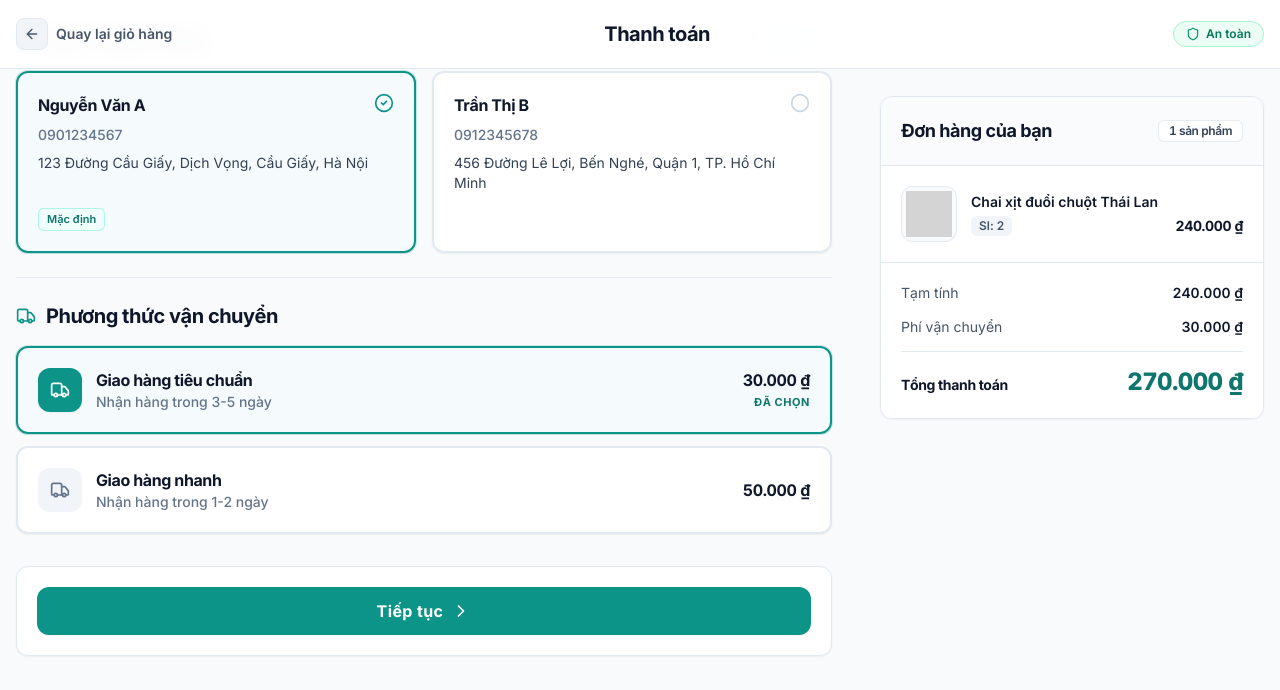
Test: CheckoutPage › Step Navigation & Validation › navigates from Step 1 to Step 2, allows payment method selection, and returns back to Step 1
(page scrolled)
# Proceed to Step 2
Click the button "Tiếp tục": click(424, 610) 37,586 -> 811,634
(page scrolled)
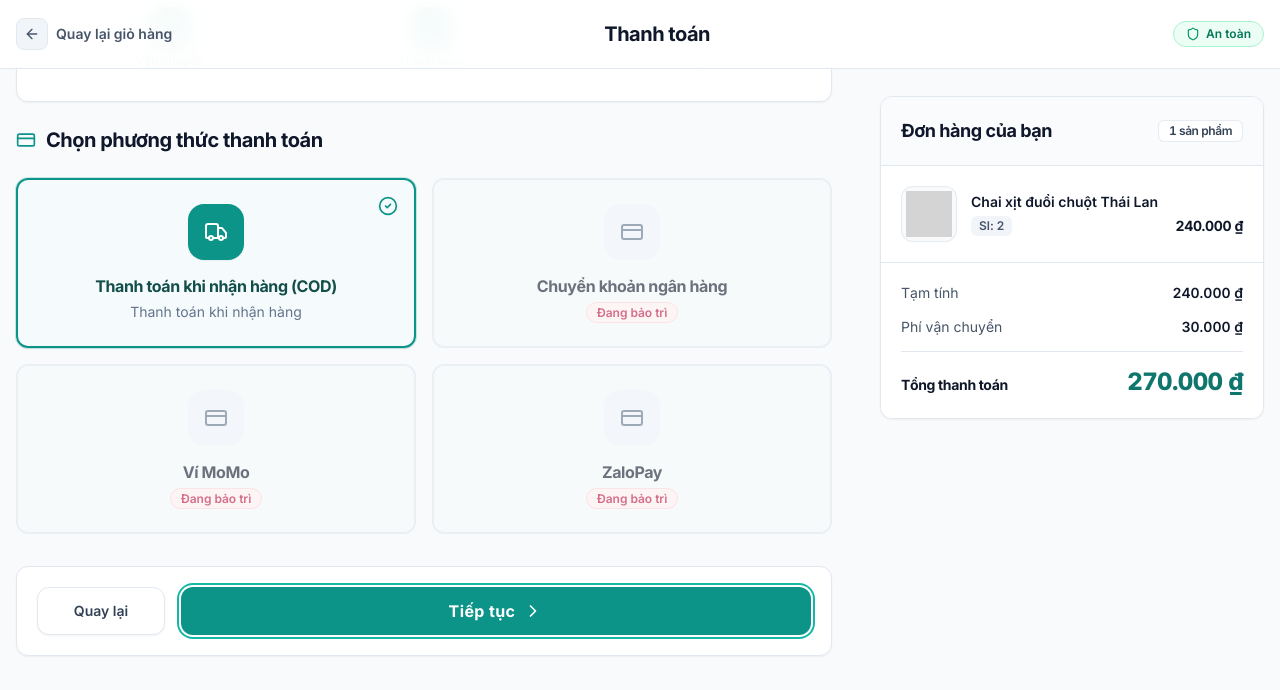
Check: the heading "Chọn phương thức thanh toán" is shown, box 16,128 -> 323,152
Check: the text "Thanh toán khi nhận hàng (COD)" is shown, box 95,274 -> 337,298
Check: the text "Chuyển khoản ngân hàng" is shown, box 537,274 -> 727,298
# Clicking non-COD method should not select it
Click the button "Chuyển khoản ngân hàng Đang bảo trì": click(632, 263) 432,178 -> 832,348
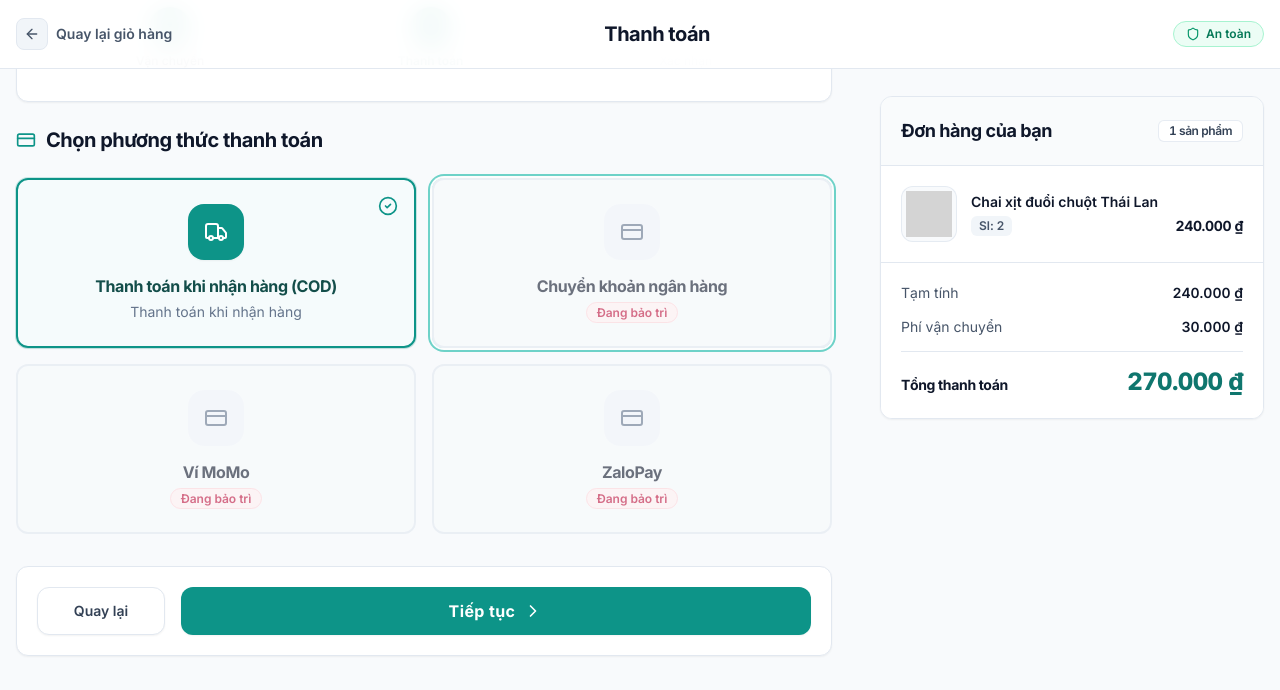
# Keydown on non-COD method should not select it
Press Enter in the button "Chuyển khoản ngân hàng Đang bảo trì", box 432,178 -> 832,348
Press Space in the button "Thanh toán khi nhận hàng (COD)", box 16,178 -> 416,348
Press Enter in the button "Thanh toán khi nhận hàng (COD)", box 16,178 -> 416,348
Press ArrowRight in the button "Thanh toán khi nhận hàng (COD)", box 16,178 -> 416,348
# Click "Quay lại" to go back to Step 1
Click the button "Quay lại": click(101, 611) 37,587 -> 165,635
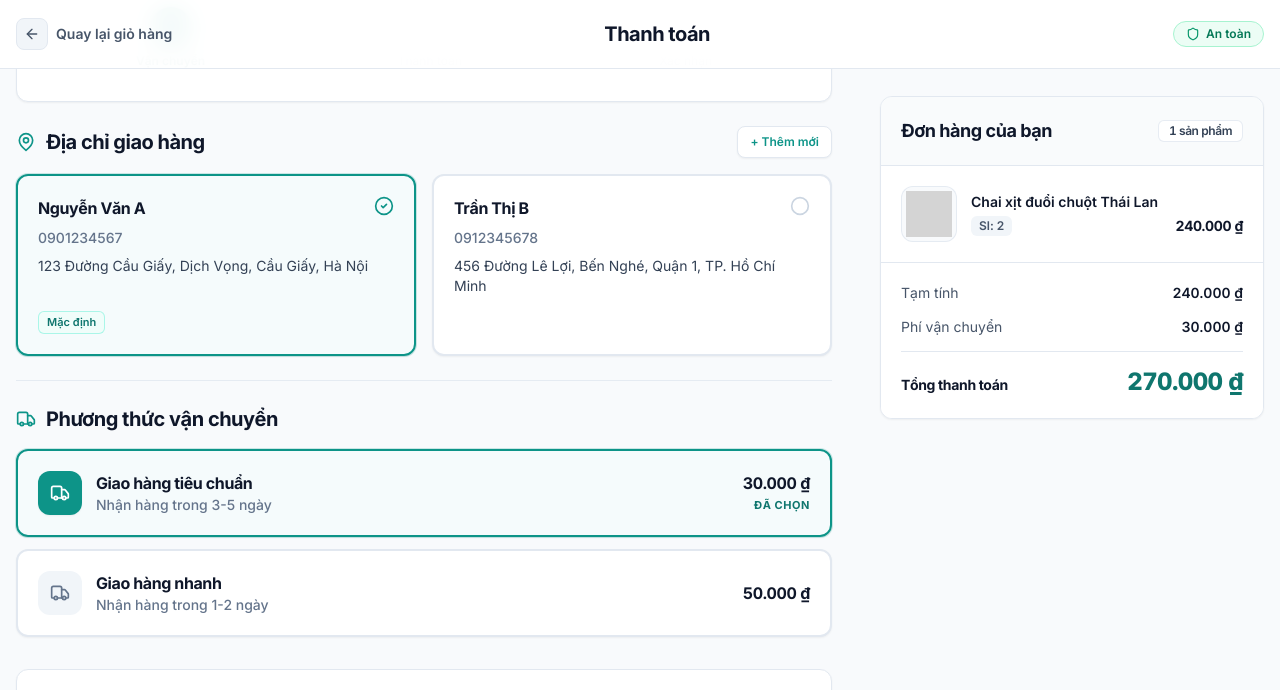
Check: the heading "Địa chỉ giao hàng" is shown, box 16,128 -> 205,156
